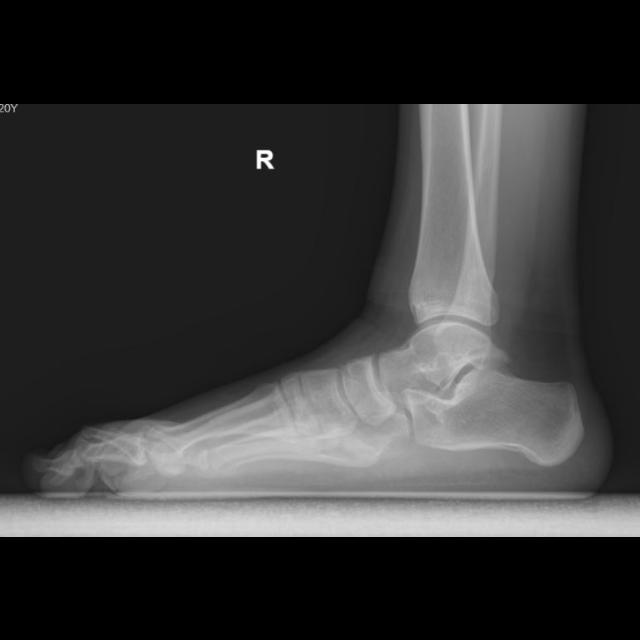a: (406, 365, 582, 466)
b: (339, 356, 398, 423)
c: (144, 382, 293, 464)
